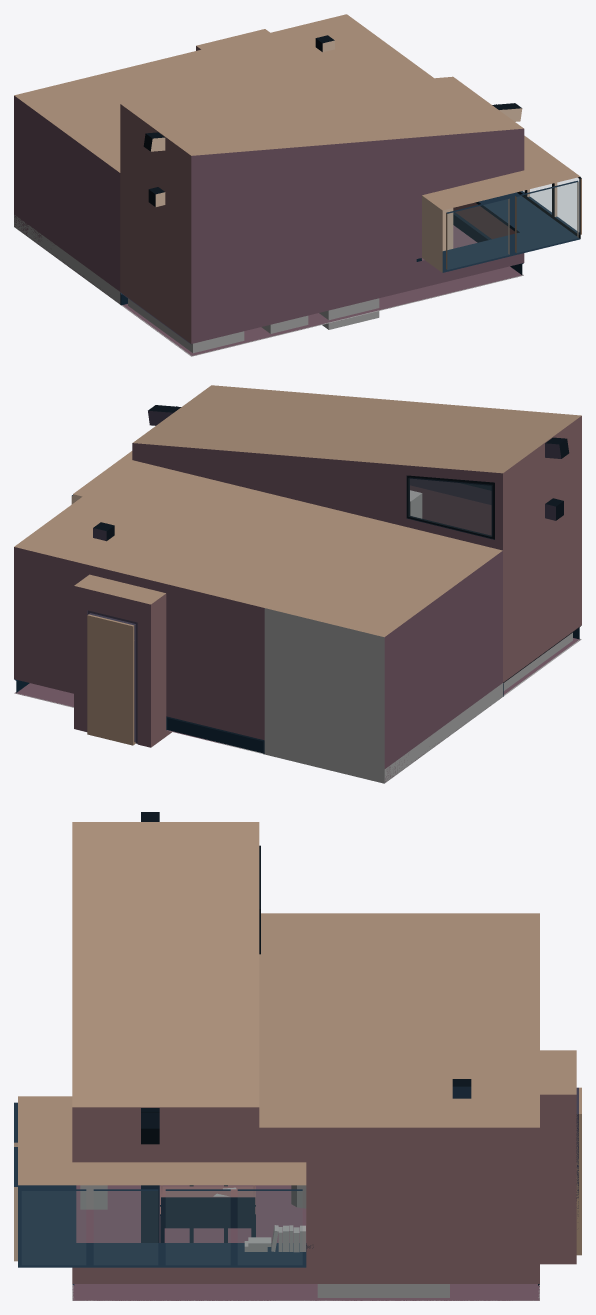
The model's file is Room.fbx.
3 views of the same model, one above another, from view 1: azimuth 30°, elevation 25°; view 2: azimuth 150°, elevation 25°; view 3: azimuth 270°, elevation 25° (orthographic). The views are drawn at different scales.
Parts seen in each view (by area): view 1: room, wooden_beams, placeholder_bed, placeholder2; view 2: room, door_entrance, wooden_beams, placeholder_bed; view 3: room, table, wooden_beams, placeholder3, door_entrance, placeholder2.
Boxes of the visible parts, x1,y1,x2,y2 form: room: (14, 14, 581, 356); wooden_beams: (143, 35, 522, 250); placeholder_bed: (128, 298, 244, 353); placeholder2: (319, 298, 379, 329); room: (14, 385, 581, 783); door_entrance: (87, 614, 135, 745); wooden_beams: (93, 405, 569, 541); placeholder_bed: (503, 632, 572, 690); room: (14, 822, 578, 1300); table: (160, 1185, 255, 1242); wooden_beams: (141, 812, 471, 1242); placeholder3: (317, 1284, 449, 1297); door_entrance: (576, 1087, 581, 1255); placeholder2: (80, 1185, 107, 1209).
Size of the model in its own units: 7.53 by 3.96 by 7.29.
